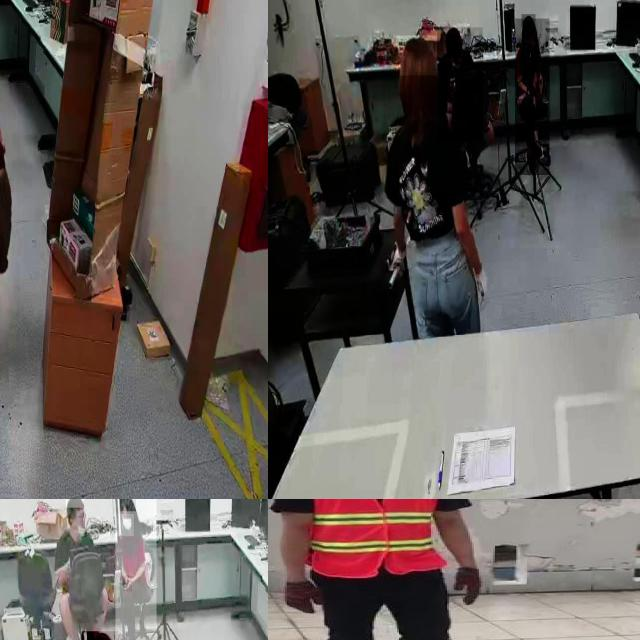face_mask: (118, 514, 134, 536)
face_nomask: (522, 30, 534, 48)
hand_glove: (472, 266, 488, 309), (391, 243, 408, 280)
hand_noglove: (122, 575, 132, 592), (531, 92, 537, 110), (516, 93, 522, 111), (122, 574, 130, 586)
head_nohelmet: (397, 36, 438, 76), (81, 631, 118, 640), (444, 26, 462, 42), (119, 499, 136, 512), (522, 14, 536, 28), (66, 499, 84, 508)
person: (382, 42, 485, 338), (276, 499, 490, 640), (54, 499, 111, 640), (115, 499, 156, 640), (515, 18, 550, 176), (437, 28, 483, 142)
vest: (306, 499, 441, 574)
